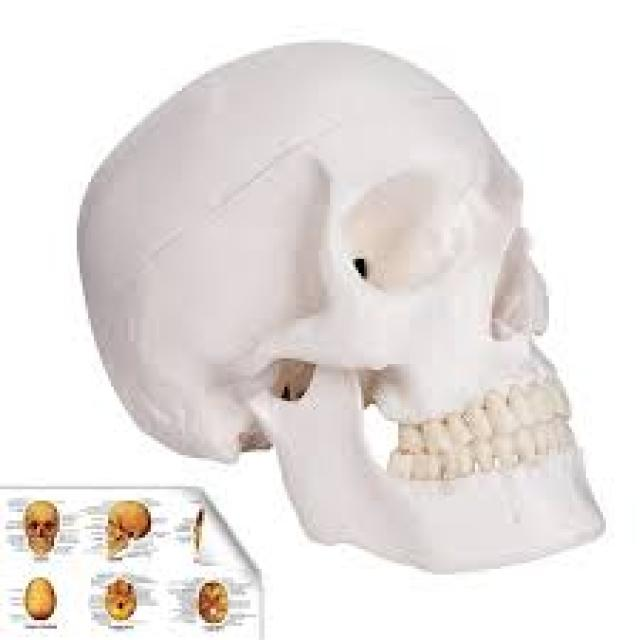skull: (70, 35, 611, 593)
